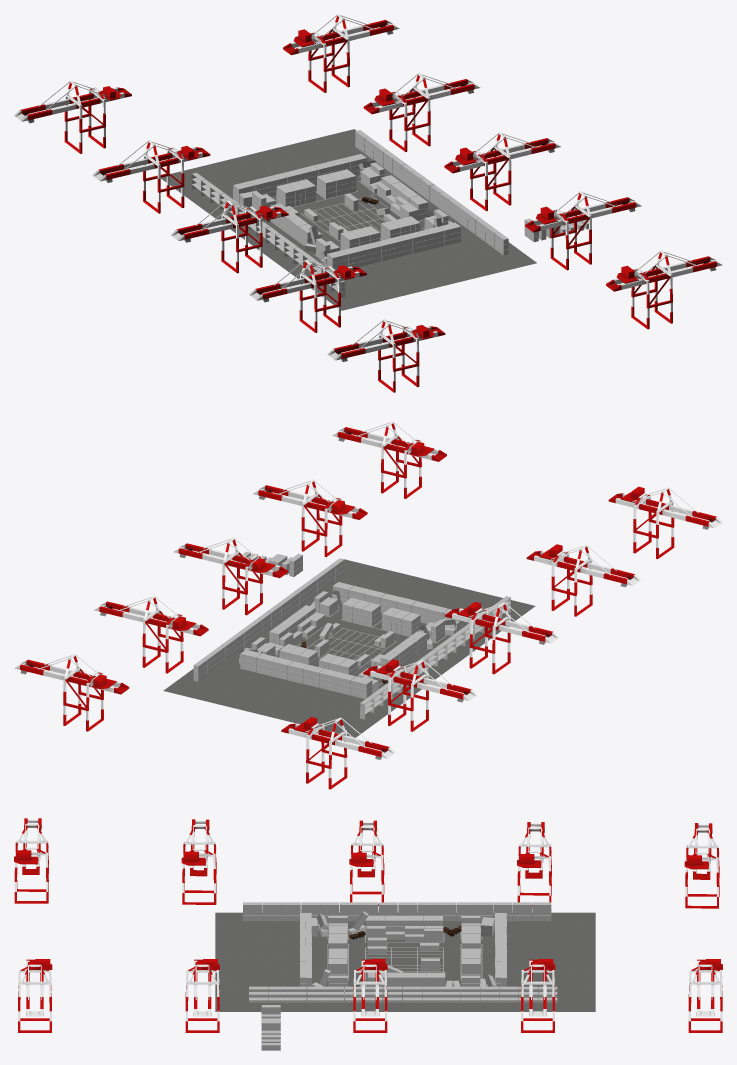
Rendered from background.fbx.
3 views of the same model, one above another, from view 1: azimuth 30°, elevation 25°; view 2: azimuth 150°, elevation 25°; view 3: azimuth 270°, elevation 25° (orthographic). The views are drawn at different scales.
Parts seen in each view (by area): view 1: 3_crane, 4_Container_1_002, 1_Ground; view 2: 3_crane, 4_Container_1_002, 1_Ground; view 3: 1_Ground, 4_Container_1_002, 3_crane, 4_Ground_Line.
Boxes of the visible parts, x1=… form: 3_crane: x1=14, y1=14, x2=722, y2=392; 4_Container_1_002: x1=191, y1=130, x2=508, y2=297; 1_Ground: x1=161, y1=129, x2=536, y2=310; 3_crane: x1=14, y1=421, x2=722, y2=789; 4_Container_1_002: x1=193, y1=558, x2=510, y2=719; 1_Ground: x1=163, y1=559, x2=535, y2=737; 1_Ground: x1=215, y1=912, x2=595, y2=1011; 4_Container_1_002: x1=243, y1=902, x2=557, y2=1002; 3_crane: x1=14, y1=818, x2=722, y2=1032; 4_Ground_Line: x1=327, y1=932, x2=482, y2=994.
Bounding box in the file's own units: 2357 × 375 × 3588.
